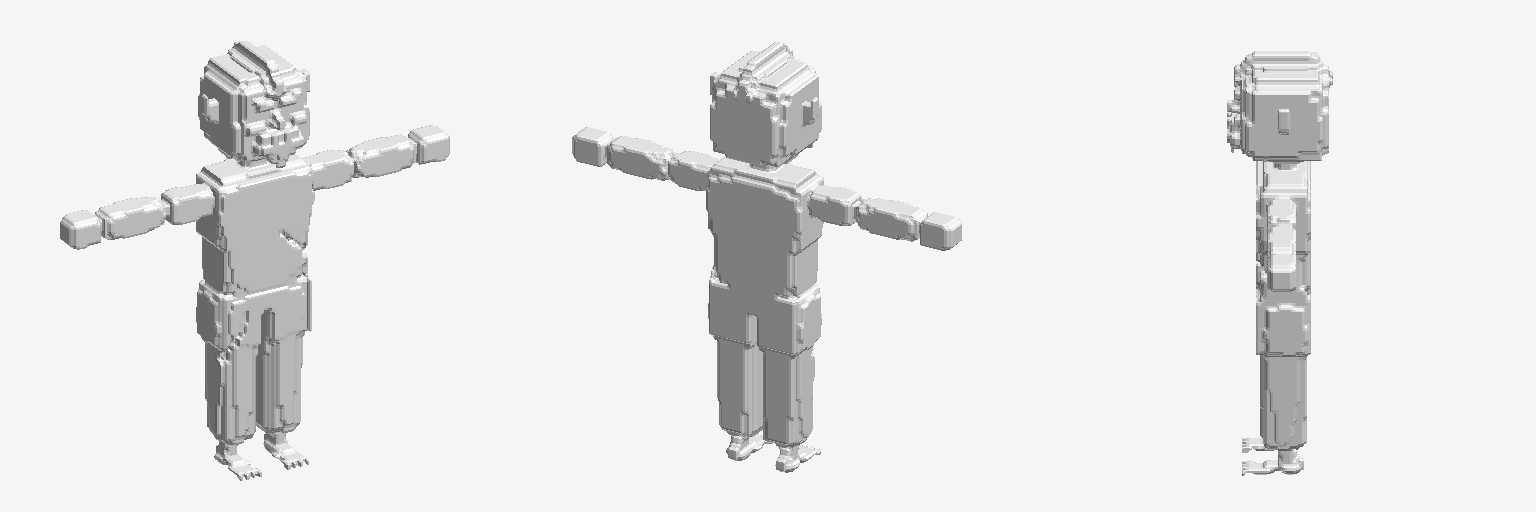
File: OBJ2Prueba.obj
The picture shows the model from 3 angles: view 1: azimuth 30°, elevation 25°; view 2: azimuth 150°, elevation 25°; view 3: azimuth 270°, elevation 25°; orthographic projection.
Visible parts, largest first — view 1: TankOgre; view 2: TankOgre; view 3: TankOgre.
Boxes of the visible parts, x1=… form: TankOgre: x1=60, y1=41, x2=449, y2=480; TankOgre: x1=572, y1=42, x2=961, y2=472; TankOgre: x1=1227, y1=51, x2=1332, y2=475.
Size of the model in its own units: 12 by 12.3 by 2.9.